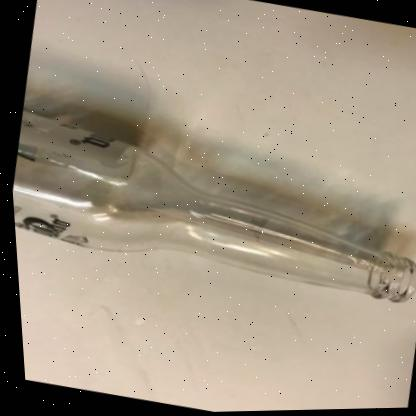Glass: (10, 109, 414, 302)
